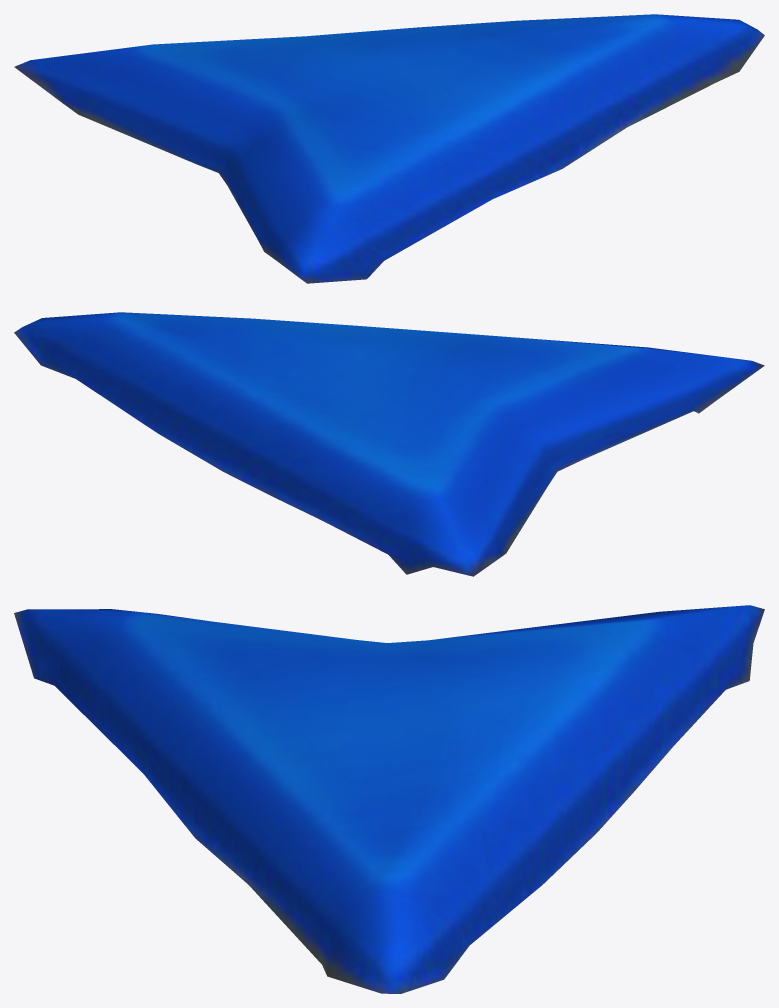
Rendered from lane-switch-arrow.glb.
The picture shows the model from 3 angles, top to bottom: view 1: azimuth 30°, elevation 25°; view 2: azimuth 150°, elevation 25°; view 3: azimuth 270°, elevation 25°; orthographic projection. The views are drawn at different scales.
Visible parts, largest first — view 1: LaneSwitchArrow; view 2: LaneSwitchArrow; view 3: LaneSwitchArrow.
Boxes of the visible parts, x1,y1,x2,y2 form: LaneSwitchArrow: (14,14,764,283); LaneSwitchArrow: (14,312,764,576); LaneSwitchArrow: (14,605,764,993).
Size of the model in its own units: 2.11 by 0.1875 by 1.78.
1 material, 1 textured.
